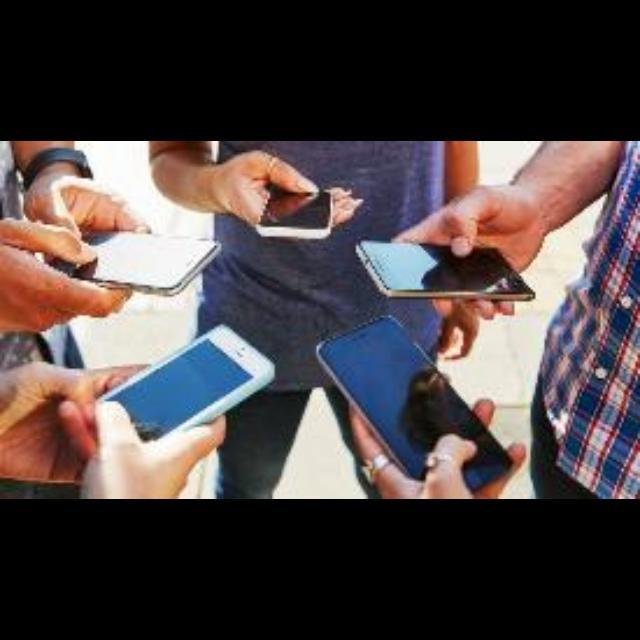Phone: (314, 314, 514, 493), (78, 318, 286, 452), (34, 226, 222, 294), (356, 238, 538, 304), (252, 177, 340, 249)
